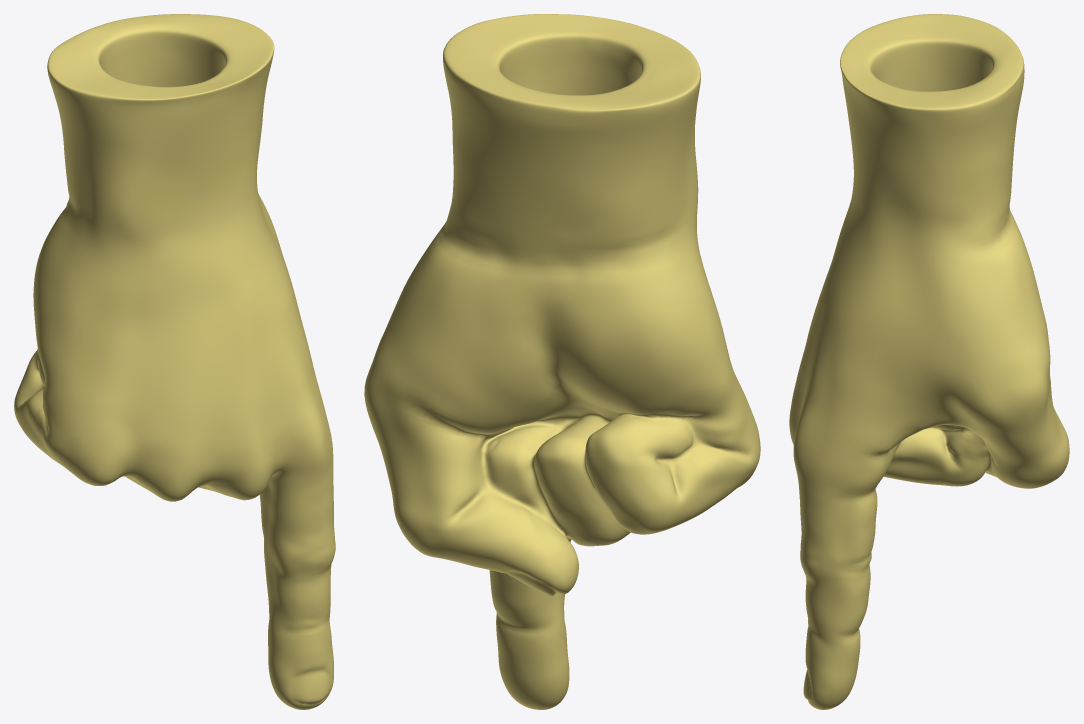
File: hint_2.glb
3 views of the same model, side by side, from view 1: azimuth 30°, elevation 25°; view 2: azimuth 150°, elevation 25°; view 3: azimuth 270°, elevation 25° (orthographic). The views are drawn at different scales.
Parts seen in each view (by area): view 1: hand; view 2: hand; view 3: hand.
Boxes of the visible parts, x1,y1,x2,y2 form: hand: (14,14,335,709); hand: (364,14,760,709); hand: (789,14,1069,709).
Size of the model in its own units: 0.3117 by 0.6784 by 0.2845.
